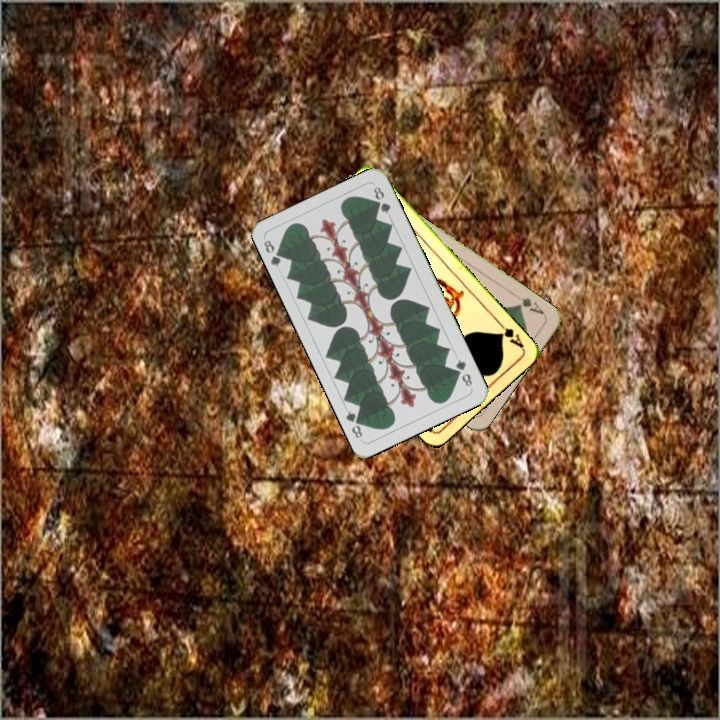G8: (259, 236, 287, 270), (451, 355, 475, 391)
GA: (494, 318, 526, 351), (514, 293, 547, 317)
